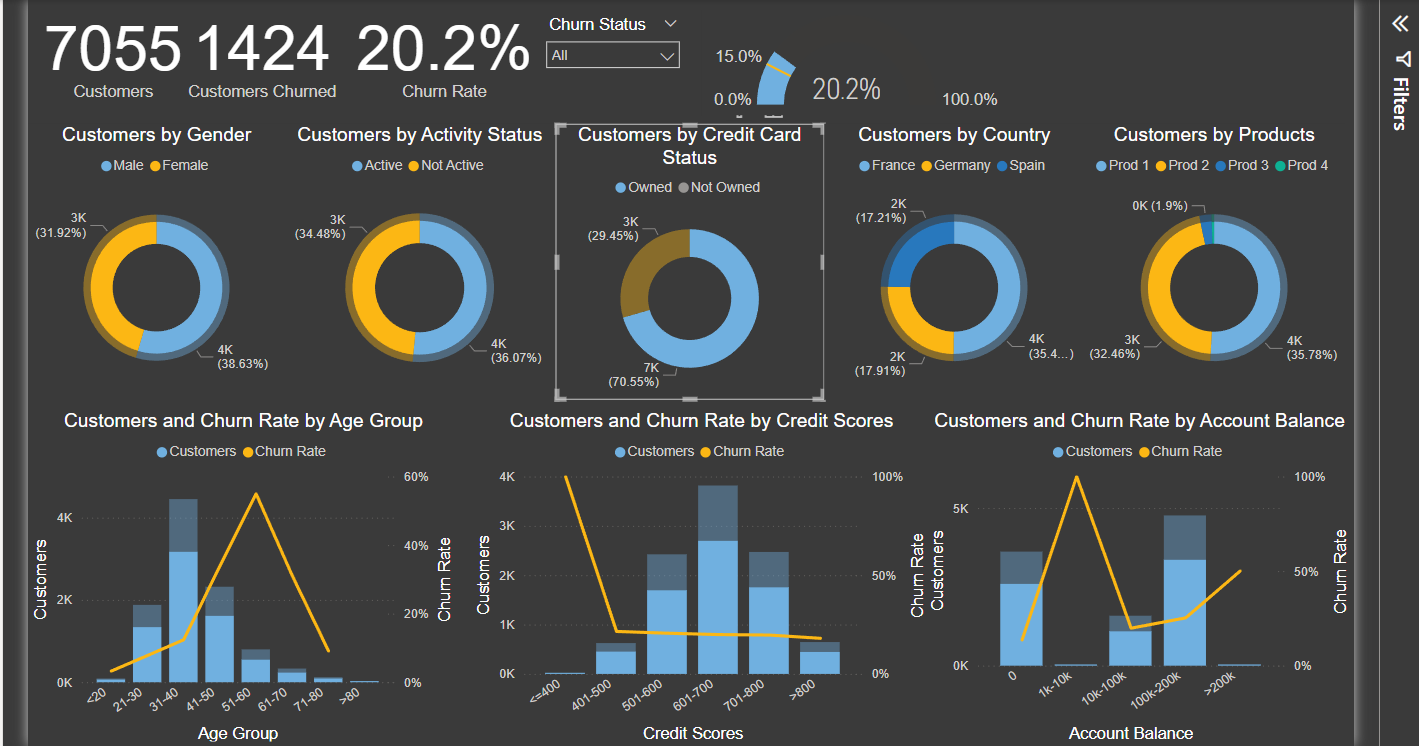

Layout of this report page (visuals, bound fields, positions):
{"tool":"powerbi","page":{"name":"Page 1","canvas":[1280,720],"ordinal":0},"visuals":[{"type":"card","fields":{"Values":["Customer Data.Customers"]},"box":[9.8,0,145.5,101.5],"z":0},{"type":"card","fields":{"Values":["Customer Data.Customers Churned"]},"box":[146.8,0,157.8,101.5],"z":1},{"type":"card","fields":{"Values":["Customer Data.Churn Rate"]},"box":[304.6,0,193.5,101.5],"z":2},{"type":"donutChart","fields":{"Category":["Customer Data.Gender"],"Y":["Customer Data.Customers"]},"box":[0,119.4,248.4,266.2],"z":3},{"type":"donutChart","fields":{"Y":["Customer Data.Customers"],"Category":["Customer Data.Activity Status"]},"box":[248.4,119.4,259.3,266.2],"z":4},{"type":"donutChart","fields":{"Y":["Customer Data.Customers"],"Category":["Customer Data.Credit Card Status"]},"box":[509.1,119.4,259.3,266.2],"z":5},{"type":"donutChart","fields":{"Y":["Customer Data.Customers"],"Category":["Customer Data.Country"]},"box":[768.4,119.4,251.1,266.2],"z":6},{"type":"donutChart","fields":{"Y":["Customer Data.Customers"],"Category":["Customer Data.Products"]},"box":[1019.6,119.4,251.1,266.2],"z":7},{"type":"lineClusteredColumnComboChart","fields":{"Category":["Age Group ID.Age Group"],"Y":["Customer Data.Customers"],"Y2":["Customer Data.Churn Rate"]},"box":[0,395.2,415.8,325.2],"z":8},{"type":"lineClusteredColumnComboChart","fields":{"Y":["Customer Data.Customers"],"Y2":["Customer Data.Churn Rate"],"Category":["Credit Scores ID.Credit Scores"]},"box":[426.8,395.2,446,325.2],"z":9},{"type":"lineClusteredColumnComboChart","fields":{"Y":["Customer Data.Customers"],"Y2":["Customer Data.Churn Rate"],"Category":["Acct Balance ID.Account Balance"]},"box":[864.5,395.2,415.8,325.2],"z":10},{"type":"slicer","fields":{"Values":["Customer Data.Churn Status"]},"box":[489.9,9.6,149.6,91.9],"z":11},{"type":"gauge","fields":{"Y":["Customer Data.Churn Rate"],"MinValue":["Min(Customer Data.Minimum Churn Rate)"],"MaxValue":["Max(Customer Data.Maximum Churn Rate)"],"TargetValue":["Min(Customer Data.Target Churn Rate)"]},"box":[650.4,9.6,297.8,101.5],"z":12}]}

Visuals, with their boxes in screenshot pixels (x1, y1, x2, y2):
card - Customer Data.Customers: {"left": 10, "top": 18, "right": 159, "bottom": 122}
card - Customer Data.Customers Churned: {"left": 150, "top": 18, "right": 311, "bottom": 122}
card - Customer Data.Churn Rate: {"left": 311, "top": 18, "right": 509, "bottom": 122}
donutChart - Customer Data.Gender x Customer Data.Customers: {"left": 0, "top": 141, "right": 254, "bottom": 413}
donutChart - Customer Data.Customers x Customer Data.Activity Status: {"left": 254, "top": 141, "right": 519, "bottom": 413}
donutChart - Customer Data.Customers x Customer Data.Credit Card Status: {"left": 521, "top": 141, "right": 786, "bottom": 413}
donutChart - Customer Data.Customers x Customer Data.Country: {"left": 786, "top": 141, "right": 1042, "bottom": 413}
donutChart - Customer Data.Customers x Customer Data.Products: {"left": 1042, "top": 141, "right": 1299, "bottom": 413}
lineClusteredColumnComboChart - Age Group ID.Age Group x Customer Data.Customers: {"left": 0, "top": 423, "right": 425, "bottom": 745}
lineClusteredColumnComboChart - Customer Data.Customers x Customer Data.Churn Rate: {"left": 436, "top": 423, "right": 892, "bottom": 745}
lineClusteredColumnComboChart - Customer Data.Customers x Customer Data.Churn Rate: {"left": 884, "top": 423, "right": 1309, "bottom": 745}
slicer - Customer Data.Churn Status: {"left": 501, "top": 28, "right": 654, "bottom": 122}
gauge - Customer Data.Churn Rate x Min(Customer Data.Minimum Churn Rate): {"left": 665, "top": 28, "right": 969, "bottom": 132}
